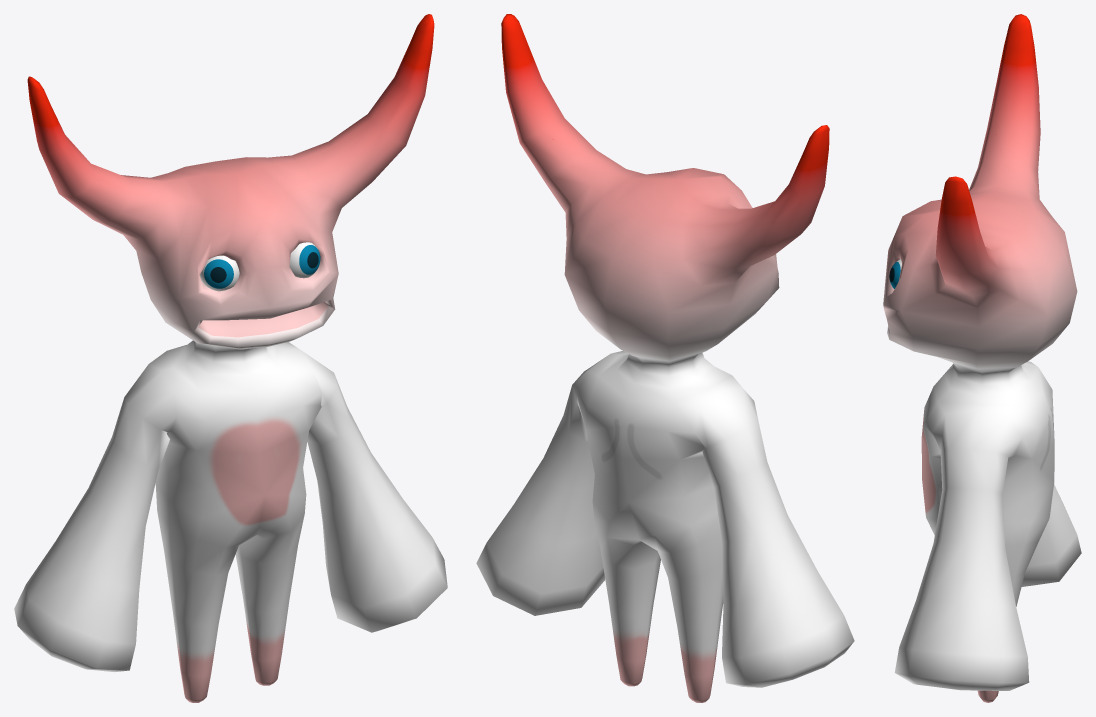
Rendered from frame34.obj.
3 renders of one model, left to right at view 1: azimuth 30°, elevation 25°; view 2: azimuth 150°, elevation 25°; view 3: azimuth 270°, elevation 25°, orthographic. The views are drawn at different scales.
Visible parts, largest first — view 1: Body, Right_Eye, Left_Eye; view 2: Body; view 3: Body.
Part boxes in pixels (<box>): Body: <box>14,14,447,702</box>; Right_Eye: <box>200,255,239,291</box>; Left_Eye: <box>289,242,320,278</box>; Body: <box>476,14,854,702</box>; Body: <box>883,14,1081,702</box>.
Bounding box in the file's own units: 12.57 × 20 × 6.1.
